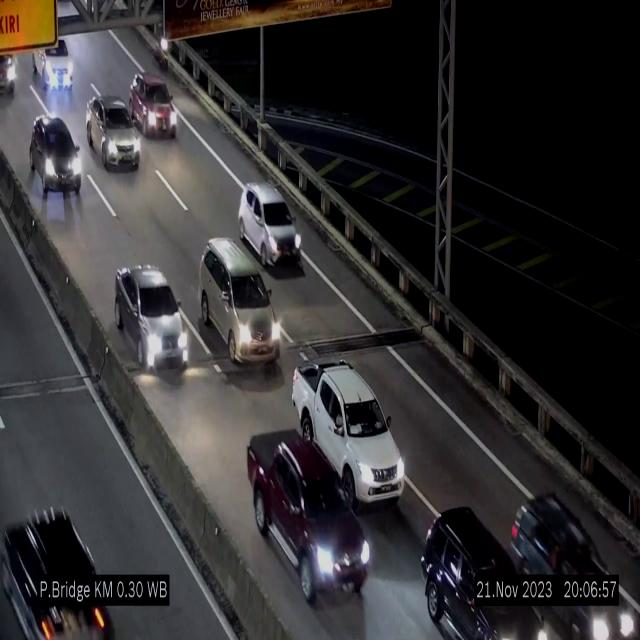Car: (246, 428, 370, 606), (513, 473, 640, 640), (292, 360, 406, 514), (412, 506, 543, 640), (0, 494, 115, 640), (199, 238, 280, 366), (115, 265, 189, 371), (239, 183, 302, 268), (27, 111, 81, 203), (86, 94, 140, 170), (129, 73, 178, 138), (32, 34, 74, 97), (0, 53, 27, 95)
Motorcycle: (154, 26, 170, 74)
